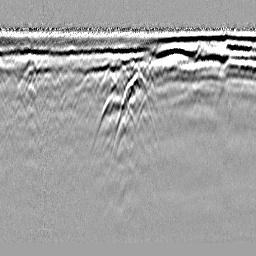cavity: (110, 71, 156, 155)
